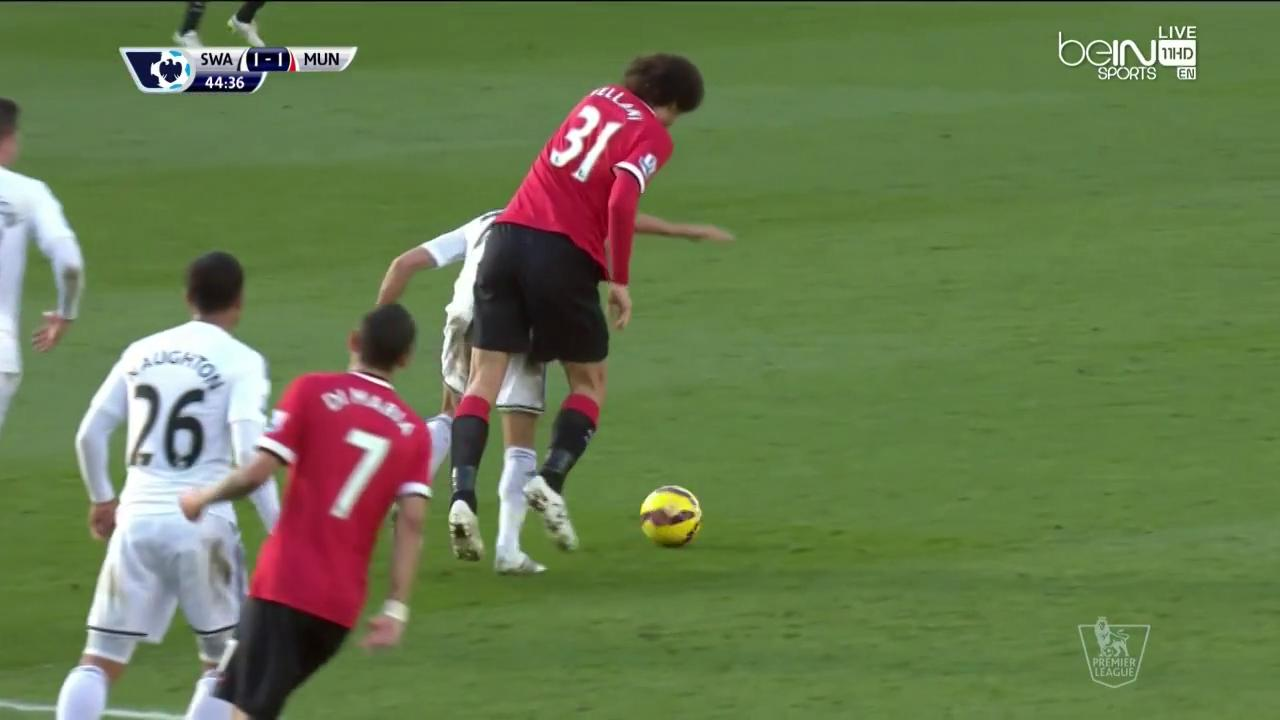football: (641, 483, 702, 548)
